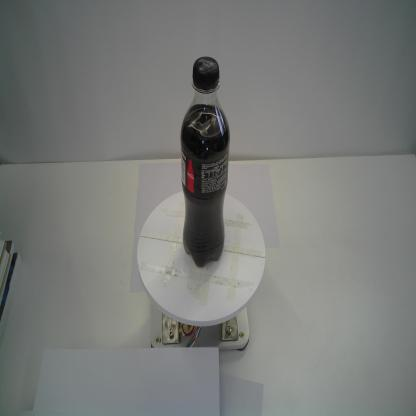Drink: (178, 54, 231, 271)
